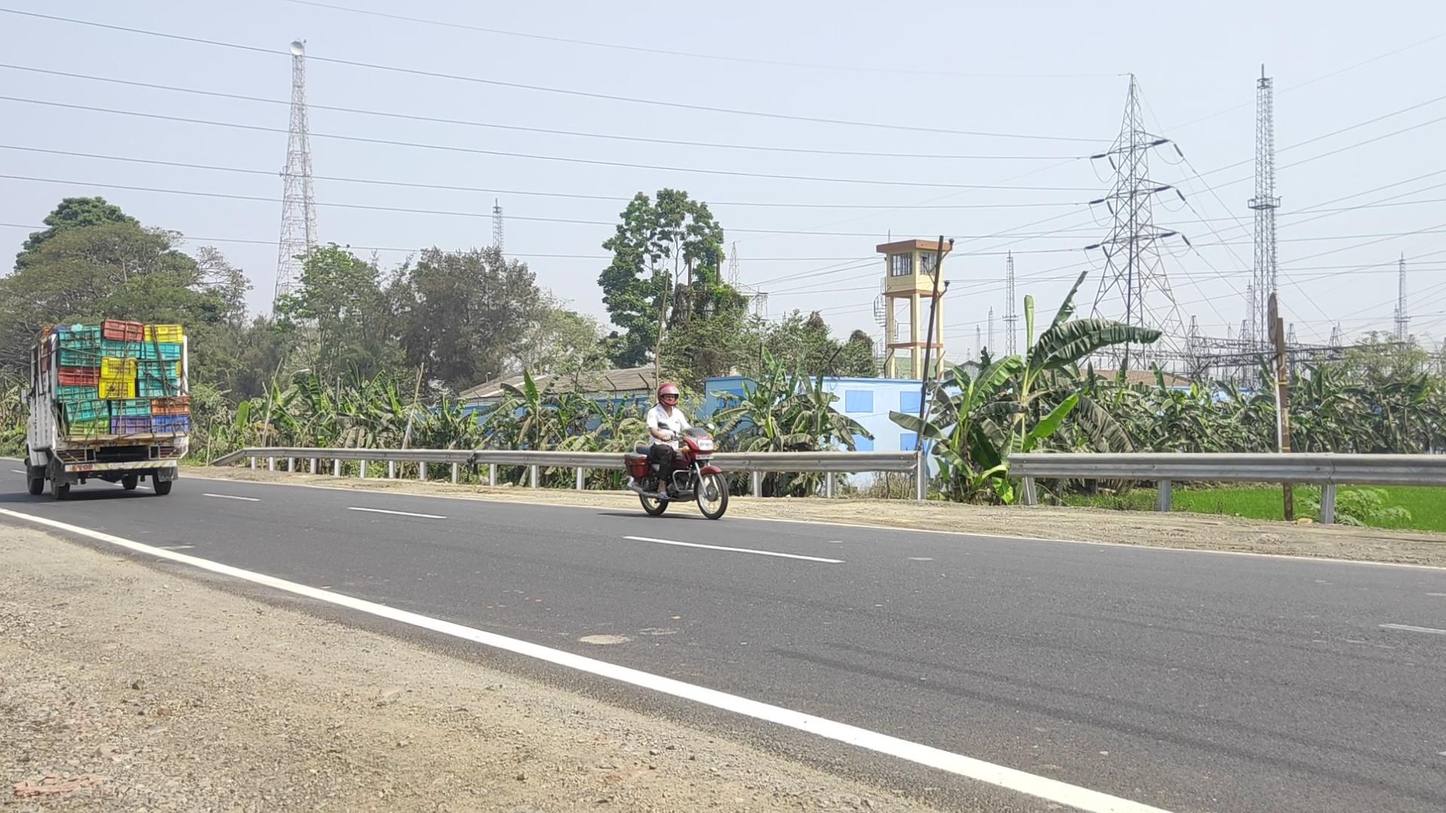bike: (624, 382, 728, 520)
truck: (21, 318, 189, 500)
